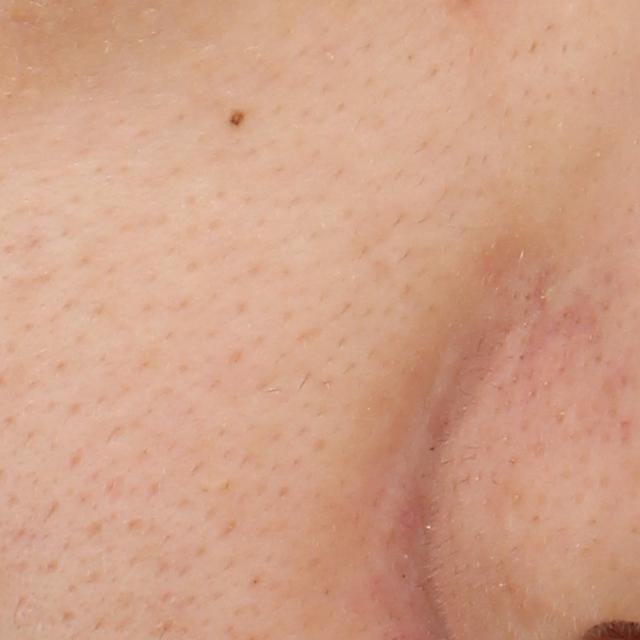nevus: (227, 106, 249, 130)
